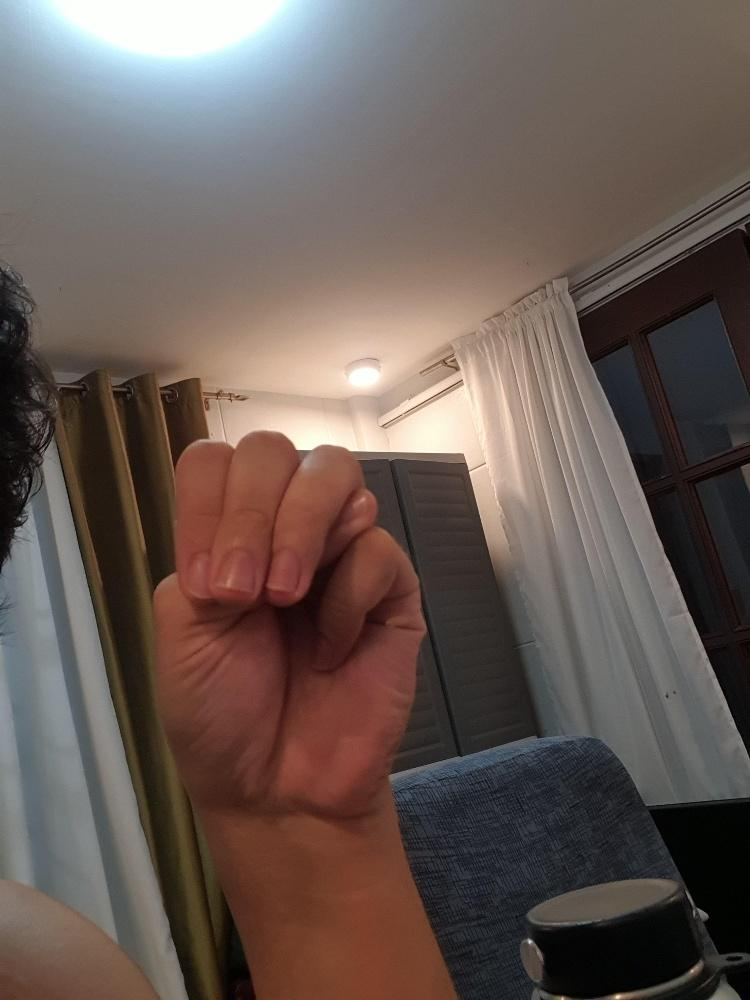m: (143, 423, 429, 828)
